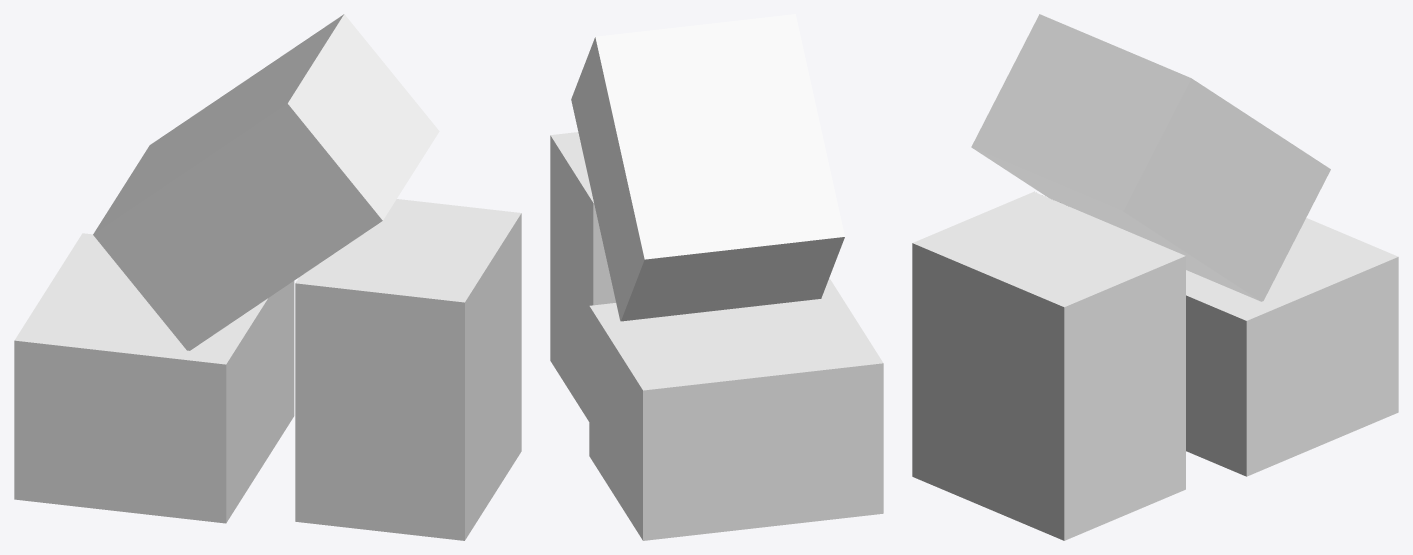
Rendered from sugar-optimized.glb.
3 renders of one model, left to right at view 1: azimuth 30°, elevation 25°; view 2: azimuth 150°, elevation 25°; view 3: azimuth 270°, elevation 25°, orthographic. The views are drawn at different scales.
Parts seen in each view (by area): view 1: cuboid (×3); view 2: cuboid (×3); view 3: cuboid (×3).
Part boxes in pixels (x1=…): cuboid (×3): x1=14, y1=14, x2=521, y2=540; cuboid (×3): x1=550, y1=14, x2=883, y2=540; cuboid (×3): x1=912, y1=14, x2=1398, y2=540.
Bounding box in the file's own units: 0.7071 × 0.6564 × 0.7071.
Materials: 1 (1 with a texture image).
